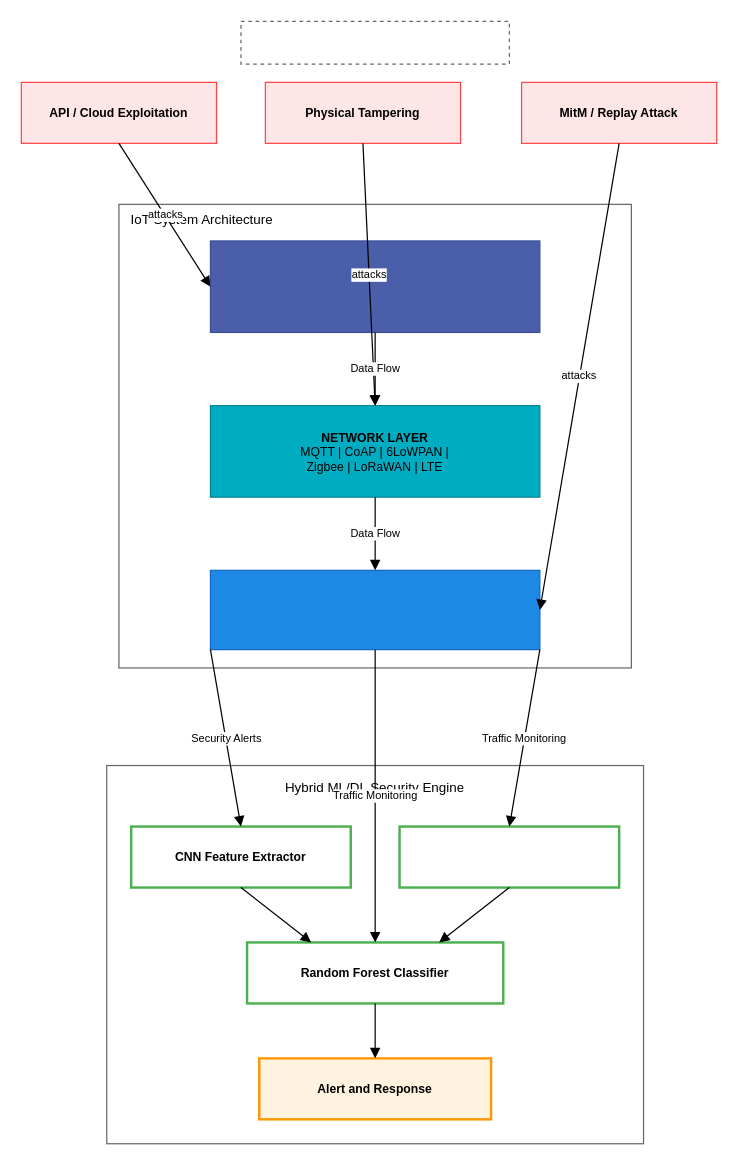
Some shapes in this 738 by 1169 pixel diagram are drawn without their labels. The box of each missing label's shape, as (x1, y1, x2, y2) in pixels:
APPLICATION LAYER Cloud Platforms | Edge Analytics | Device Management APIs: (209, 569, 540, 650)
Attack Vectors: (240, 20, 509, 64)
LSTM Sequence Model: (398, 825, 620, 888)
PERCEPTION LAYER Sensors | Actuators | RFID | Embedded Microcontrollers: (209, 240, 540, 332)
